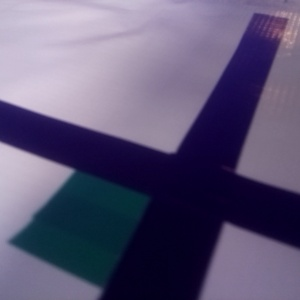bottom_left: (92, 39, 197, 82)
top_left: (118, 13, 205, 52)
top_right: (174, 19, 260, 60)
